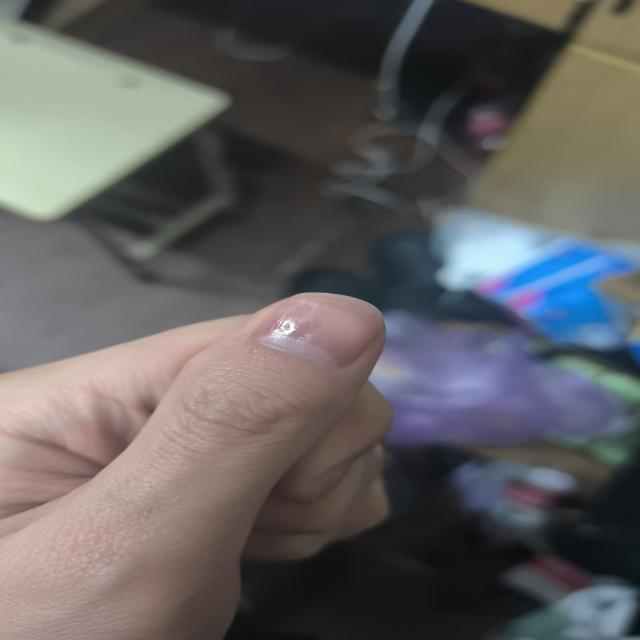Nail: (248, 293, 385, 365), (310, 456, 353, 500)
